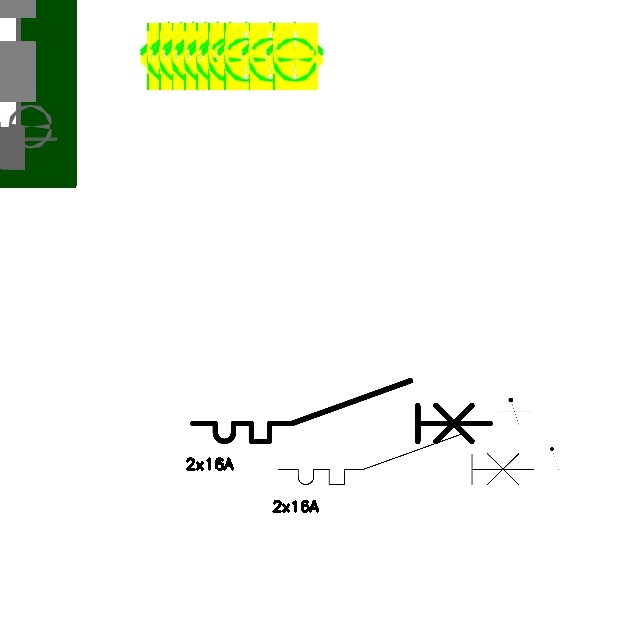interruptor_termomagnetico: (185, 373, 498, 449), (272, 426, 540, 491)
